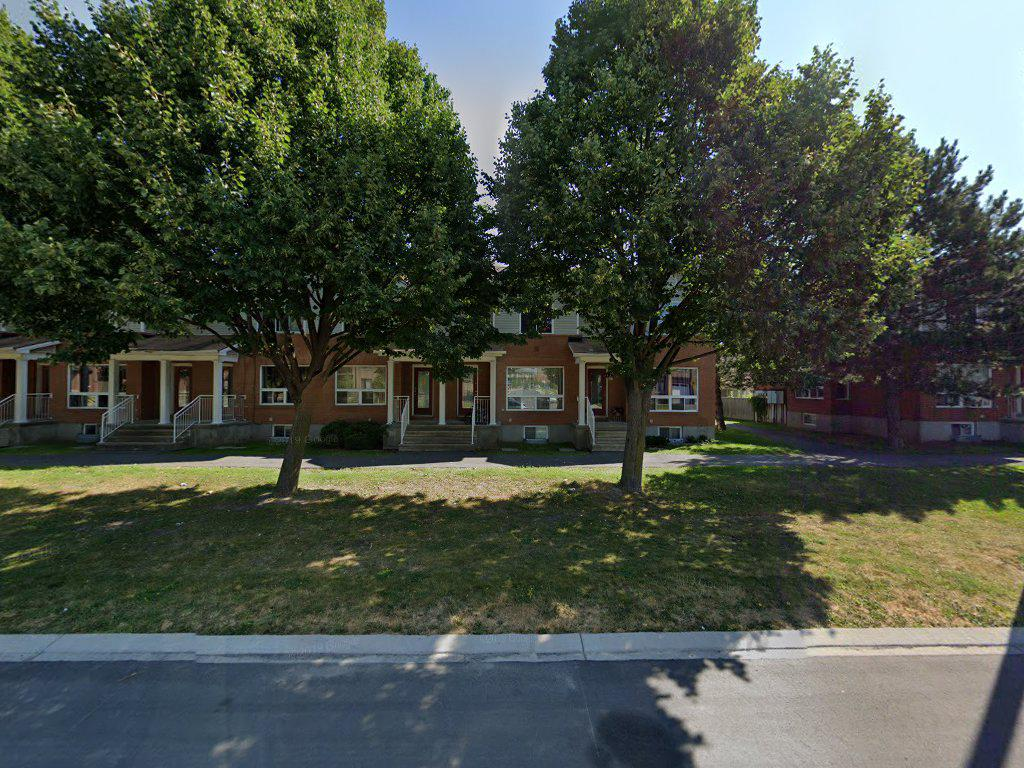trunk: (617, 363, 647, 507)
